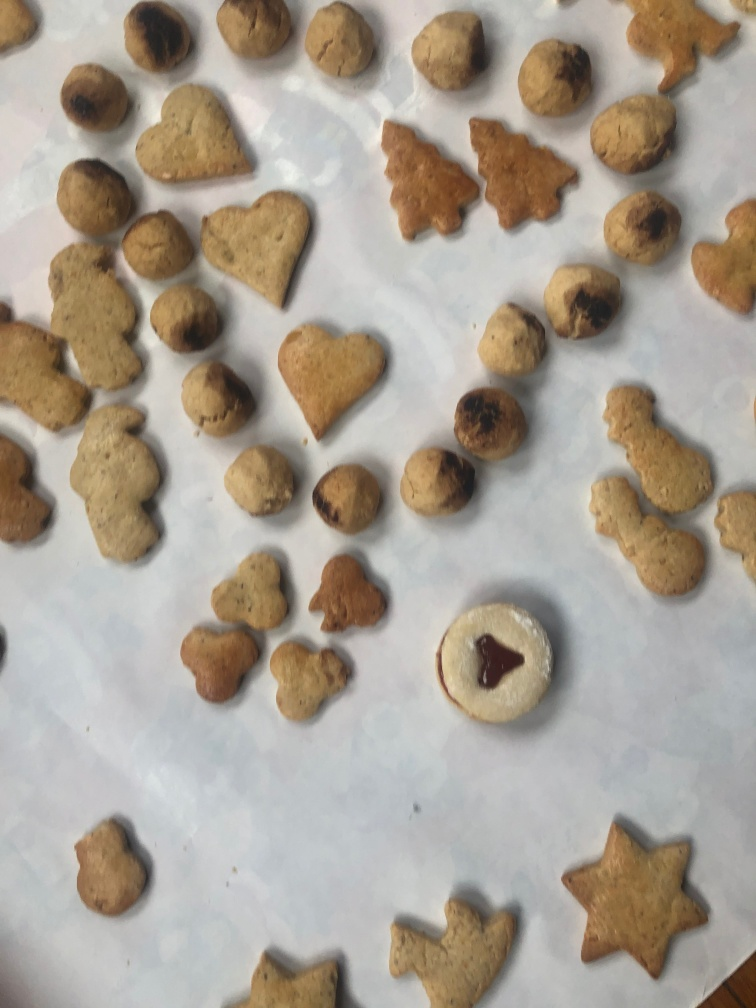christmas shortbread with jam: (434, 596, 558, 724)
christmas tree: (464, 102, 581, 241), (376, 114, 483, 246)
flake: (180, 614, 272, 709), (265, 628, 354, 724), (308, 547, 399, 636), (208, 545, 294, 633)
heart: (274, 312, 409, 442), (198, 185, 312, 307), (133, 82, 252, 196)
lamb: (387, 882, 533, 1004)
santa claus: (67, 399, 175, 576), (44, 235, 163, 390), (2, 296, 98, 437), (616, 1, 746, 94)
snowball: (398, 434, 493, 516), (541, 259, 627, 348), (471, 296, 553, 386), (219, 439, 302, 527), (177, 357, 258, 440), (59, 55, 142, 134), (307, 460, 392, 536), (56, 153, 137, 232), (515, 36, 594, 117), (602, 190, 688, 261), (453, 384, 531, 462), (409, 10, 487, 88), (121, 1, 197, 78), (303, 5, 378, 83), (122, 206, 199, 276), (212, 3, 295, 66), (149, 284, 226, 350)
snowman: (585, 464, 718, 605), (600, 378, 722, 514)
star: (559, 812, 710, 982), (209, 938, 346, 1008)
